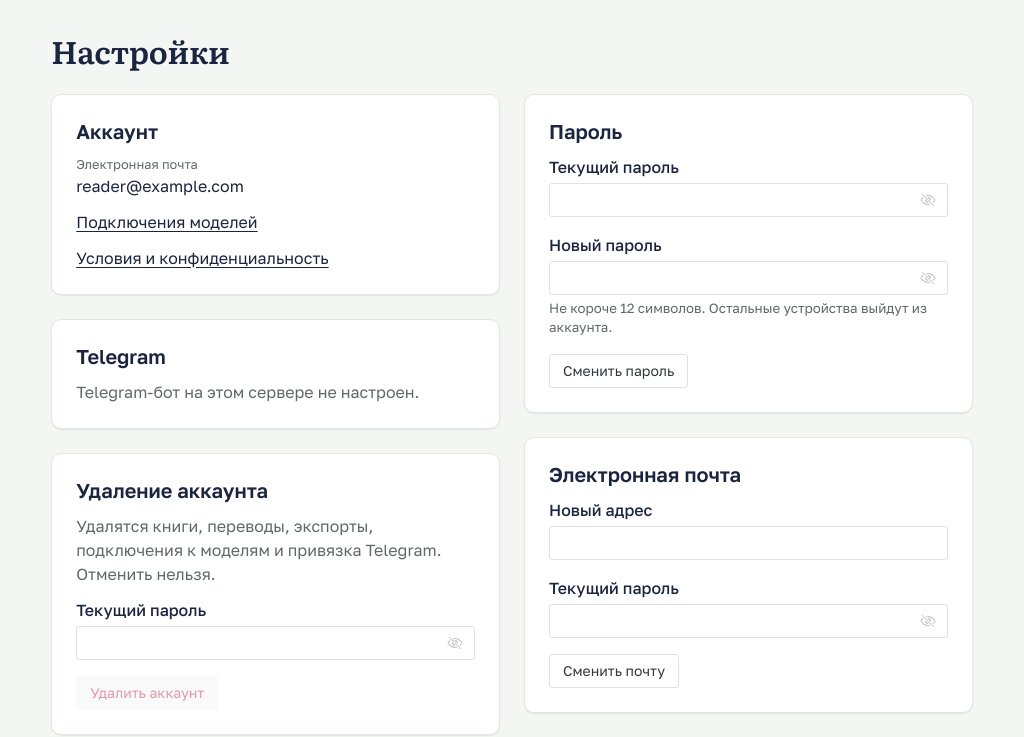
профиль › смена почты: новый адрес виден сразу
Type "new@example.com" into the field named "email" at (748, 544), box top-left (561, 526), bottom-right (936, 560)
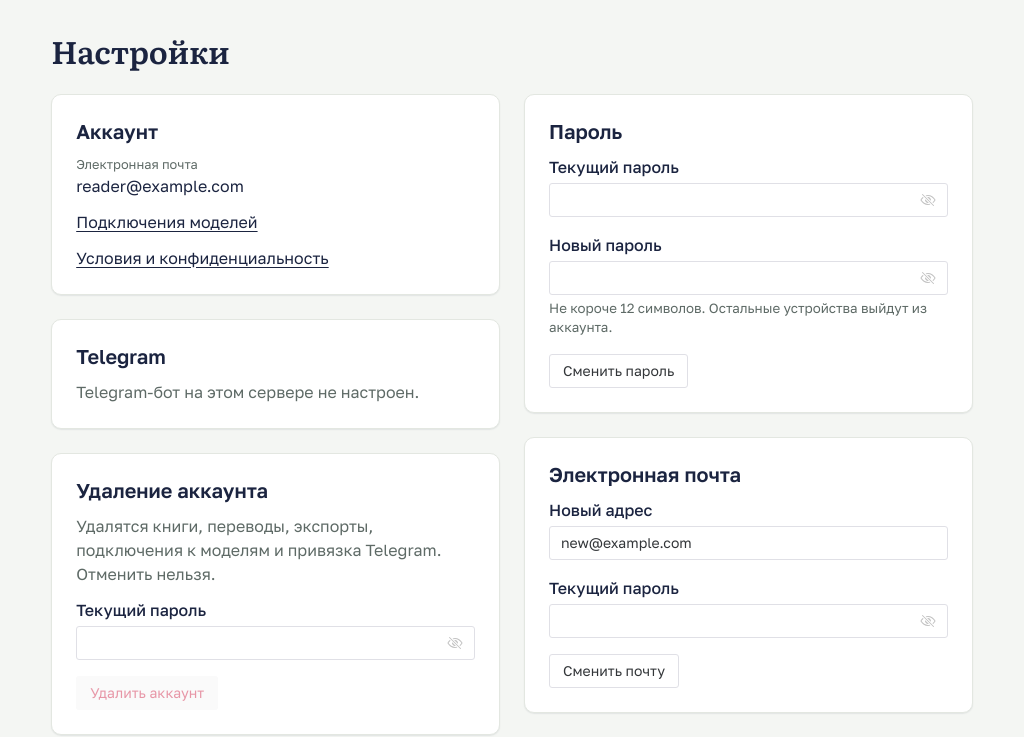
Type "right-password-1" into the password field named "email_password" at (738, 622), box top-left (561, 604), bottom-right (916, 638)
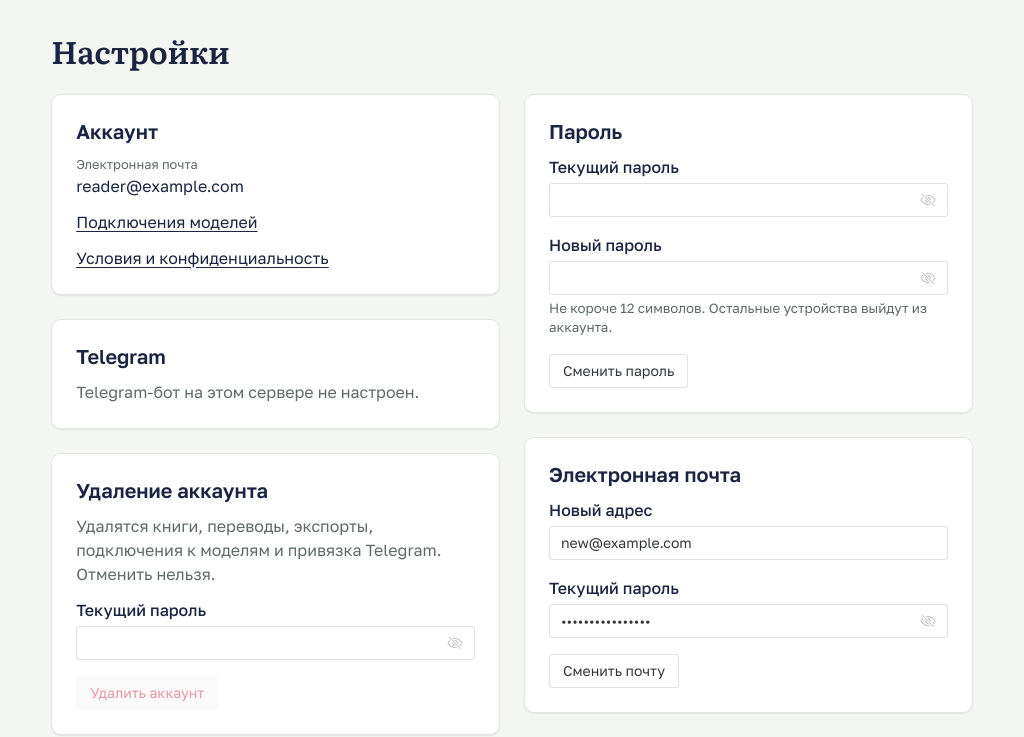
Submit the form with class "email-form", box top-left (549, 498), bottom-right (948, 688)
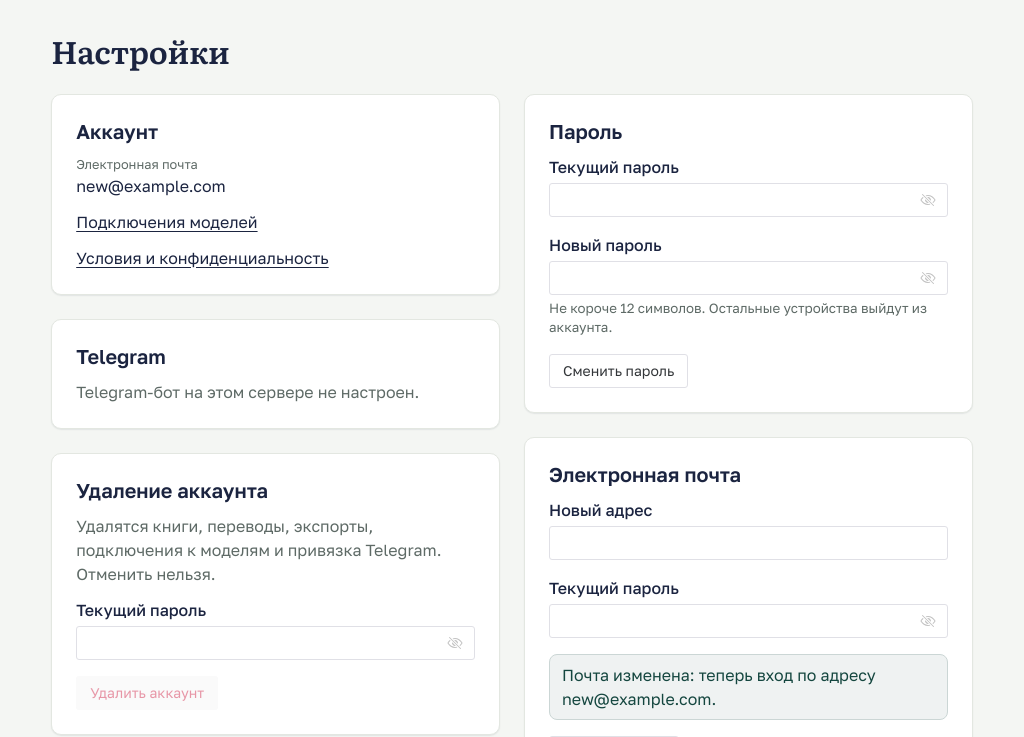
Result: the text "new@example.com" is shown at top-left (76, 174), bottom-right (226, 198)
Result: the message "Почта изменена: теперь вход по адресу new@example.com." is shown at top-left (549, 654), bottom-right (948, 720)
